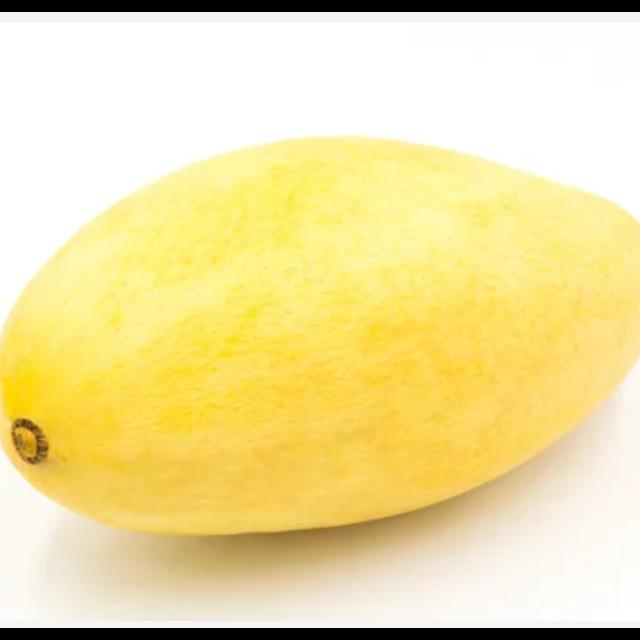mango: (0, 133, 640, 540)
